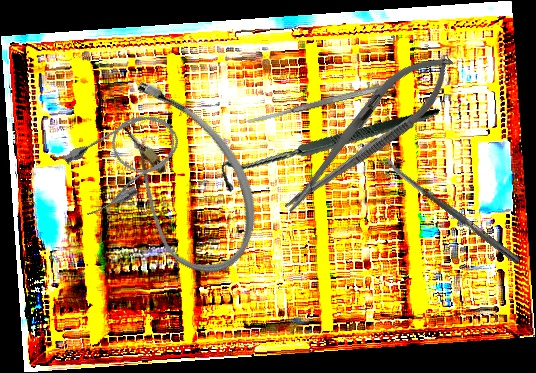Cannula: (76, 62, 287, 292), (54, 99, 194, 223)
Hook Surgical: (217, 67, 440, 232)
Needle Holder: (268, 37, 467, 229)
Spatula Surgical: (245, 80, 396, 126)
Surgical Spoon: (380, 155, 522, 265)
